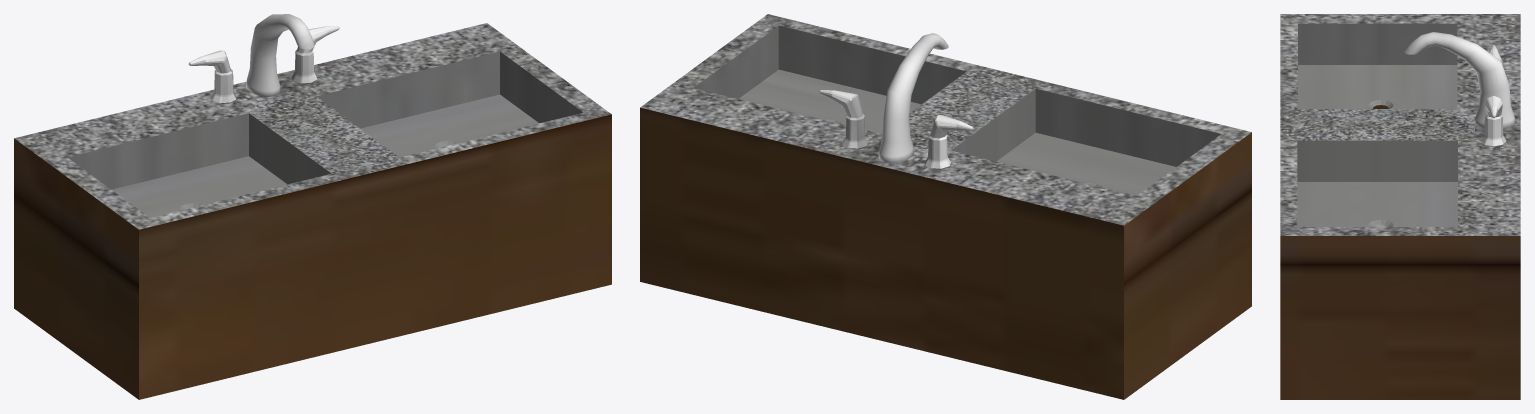
File: sinkWTextures.fbx
The picture shows the model from 3 angles, left to right: view 1: azimuth 30°, elevation 25°; view 2: azimuth 150°, elevation 25°; view 3: azimuth 270°, elevation 25°; orthographic projection. The views are drawn at different scales.
Visible parts, largest first — view 1: sink1, pCylinder67, pasted__pasted__pasted__pCylinder10, pasted__pasted__pasted__pasted__pCylinder9; view 2: sink1, pCylinder67, pasted__pasted__pasted__pasted__pCylinder9, pasted__pasted__pasted__pCylinder10; view 3: sink1, pCylinder67, pasted__pasted__pasted__pasted__pCylinder9.
Part boxes in pixels (x1,y1,x2,y2): sink1: [14, 23, 611, 399]; pCylinder67: [246, 14, 314, 96]; pasted__pasted__pasted__pCylinder10: [188, 50, 236, 103]; pasted__pasted__pasted__pasted__pCylinder9: [292, 26, 339, 84]; sink1: [640, 14, 1251, 399]; pCylinder67: [878, 33, 948, 163]; pasted__pasted__pasted__pasted__pCylinder9: [819, 90, 868, 149]; pasted__pasted__pasted__pCylinder10: [925, 115, 973, 169]; sink1: [1280, 14, 1520, 399]; pCylinder67: [1404, 32, 1515, 128]; pasted__pasted__pasted__pasted__pCylinder9: [1481, 96, 1506, 146].
Bounding box in the file's own units: 6.2 × 3.33 × 2.84.
